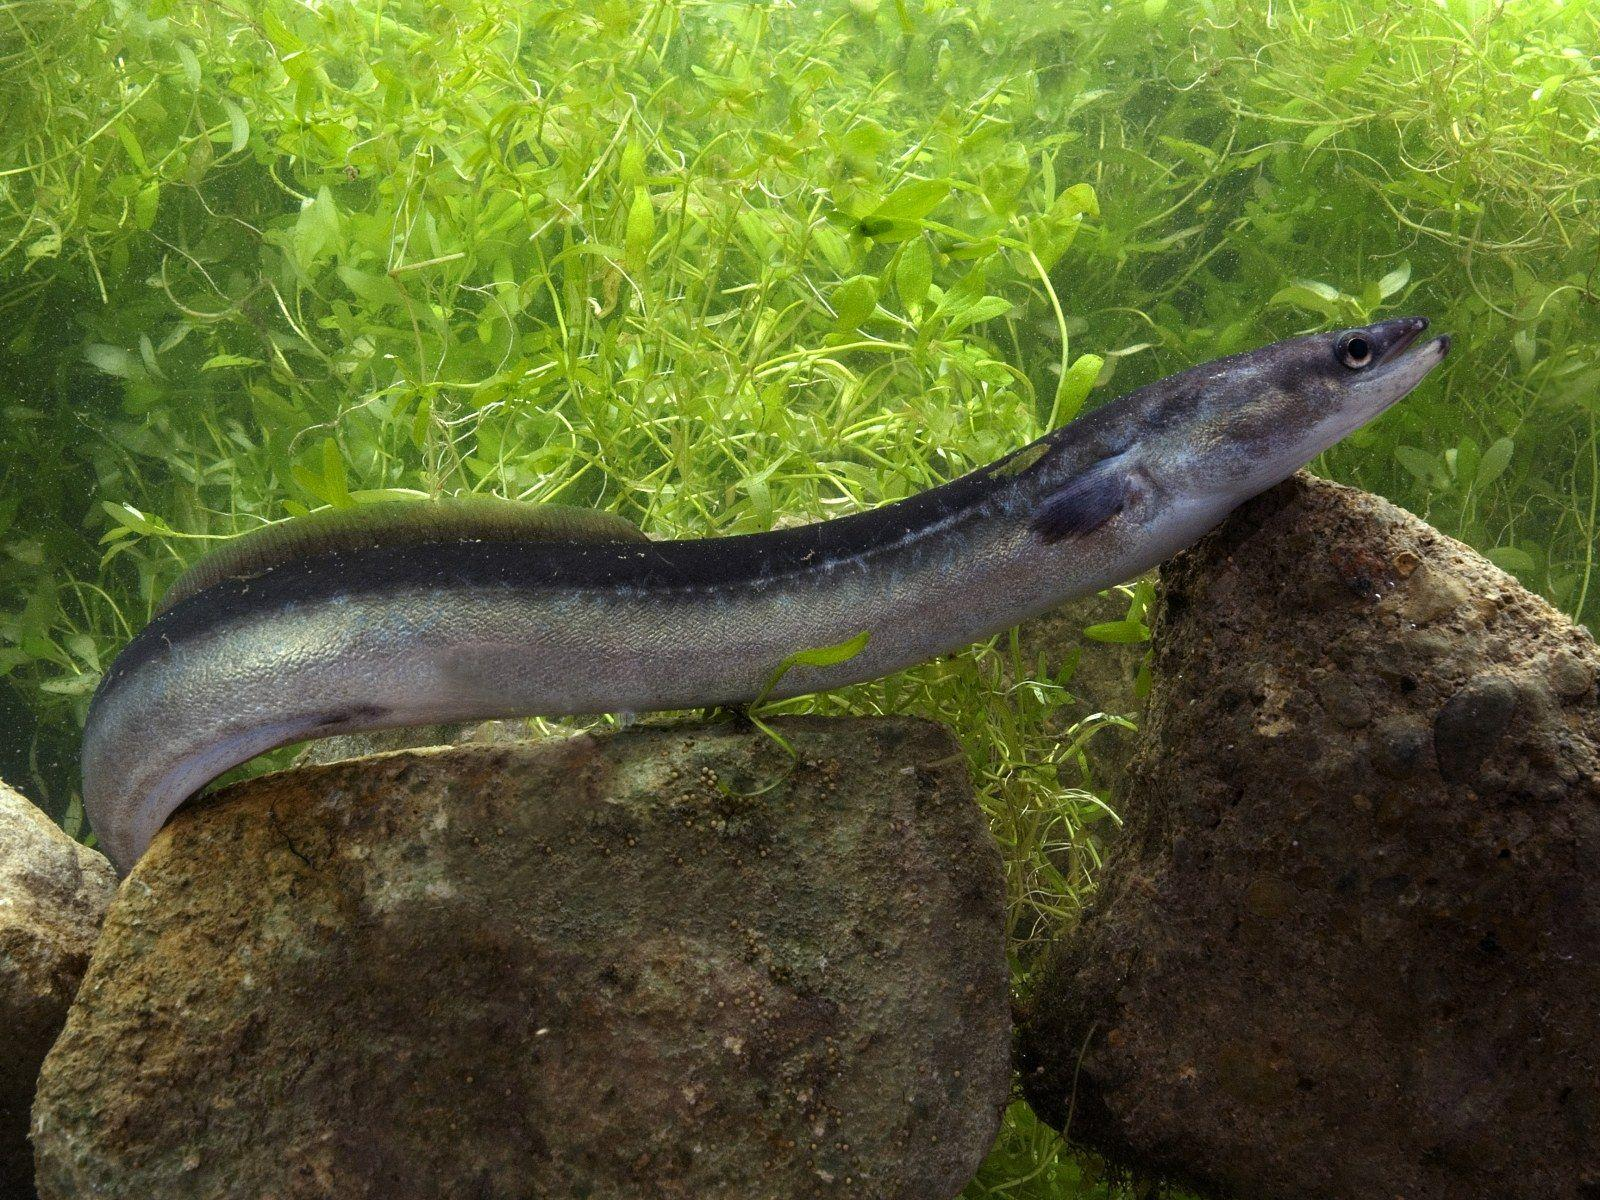Freshwater Eel: (78, 306, 1466, 863)
